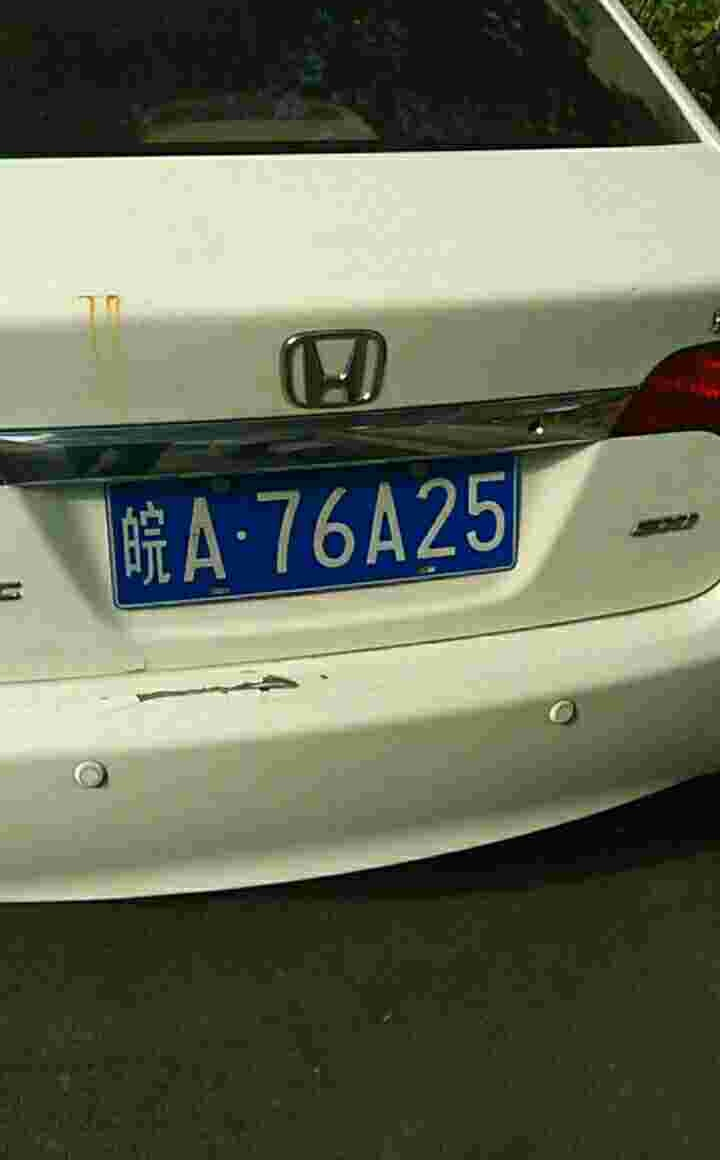license_plate: (112, 446, 531, 606)
